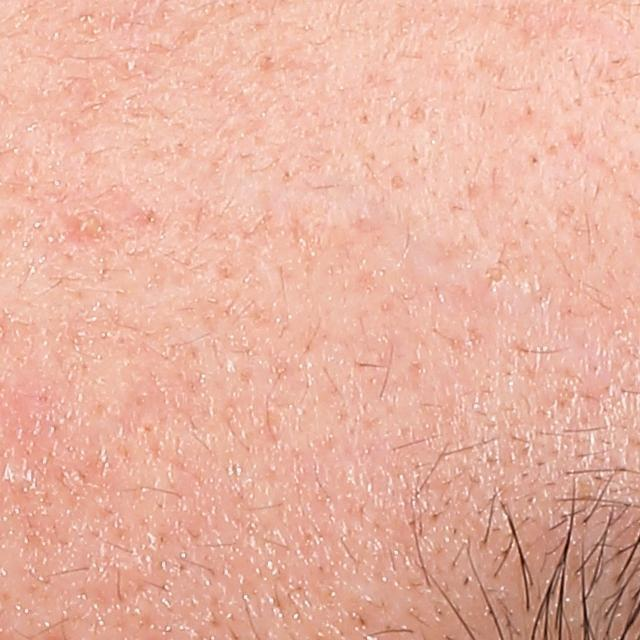comedo: (387, 169, 410, 193)
